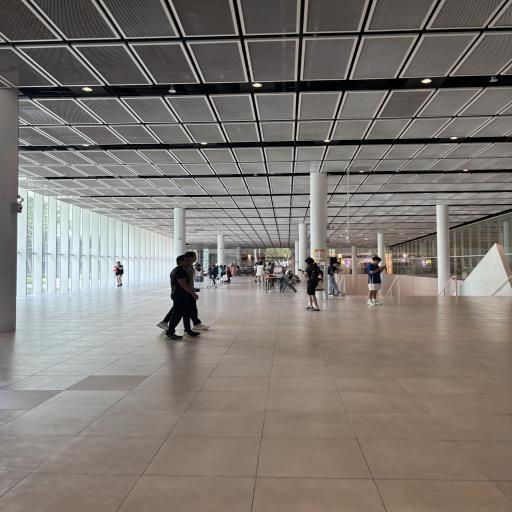person_left: (298, 254, 326, 312)
person_right: (162, 252, 196, 342), (363, 252, 389, 306), (326, 260, 346, 298)
